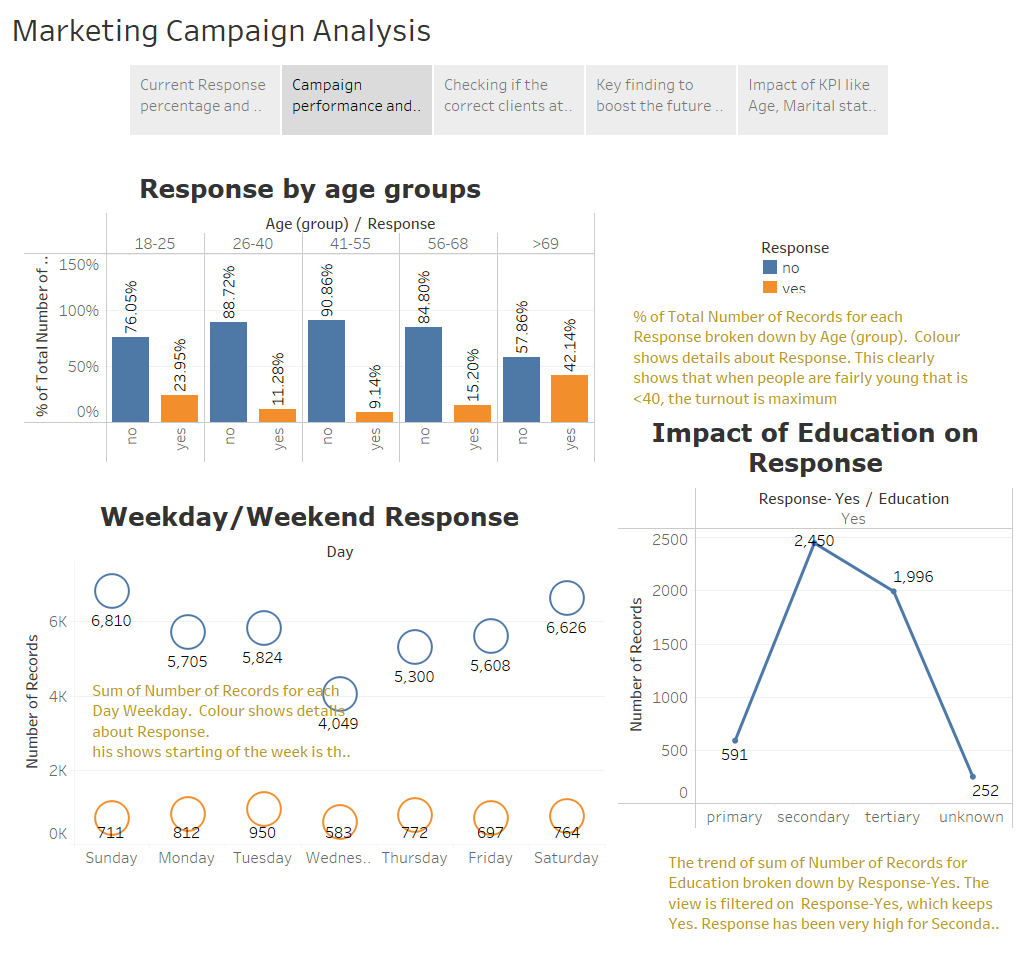

This screenshot's page, from the dashboard's own definition file:
{"tool":"tableau","page":{"name":"Dashboard 2","canvas":[1000,800],"ordinal":1},"visuals":[{"type":"worksheet","title":"Response by age groups","mark":"Automatic","cols":["response"],"box":[16,16,572,296]},{"type":"legend","title":"Response by age groups","param":"[federated.16b4l9v19oirxa11chxgu1q5xi05].[none:response:nk]","box":[752,84,140,58]},{"type":"text","box":[622,151,341,112]},{"type":"worksheet","title":"Impact of Education on Response","mark":"Line","rows":["Number of Records"],"cols":["Calculation_1195705718571237377","education"],"box":[610,260,395,418]},{"type":"worksheet","title":"Weekday/Weekend Response","mark":"Shape","rows":["Number of Records"],"cols":["day"],"box":[6,344,591,374]},{"type":"text","box":[81,522,266,97]},{"type":"text","box":[657,696,341,93]}]}

Visuals, with their boxes on the page's 1000x800 design canvas (x1, y1, x2, y2). These are canvas units, not pixel positions in the 1016x964 screenshot, which may show the page scaled, cropped or inside an application window:
"Response by age groups" worksheet: <box>16,16,588,312</box>
"Response by age groups" legend: <box>752,84,892,142</box>
text: <box>622,151,963,263</box>
"Impact of Education on Response" worksheet (Line marks): <box>610,260,1005,678</box>
"Weekday/Weekend Response" worksheet (Shape marks): <box>6,344,597,718</box>
text: <box>81,522,347,619</box>
text: <box>657,696,998,789</box>
